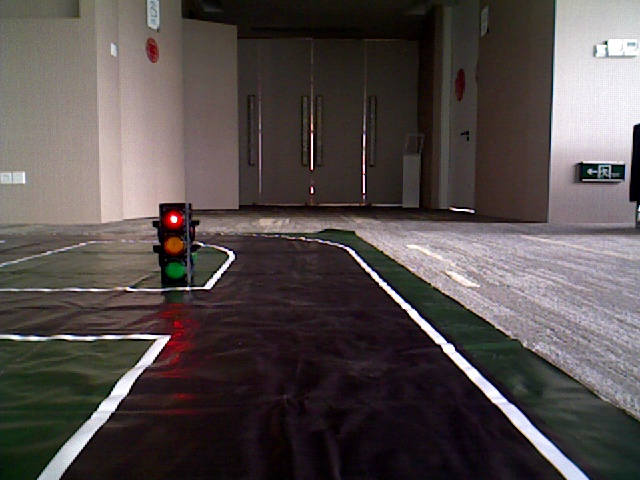red: (157, 204, 189, 277)
